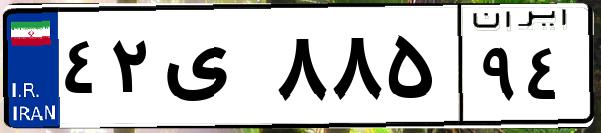2: (110, 28, 158, 98)
4: (57, 26, 110, 100), (525, 38, 570, 115)
5: (385, 28, 445, 110)
8: (270, 28, 330, 110), (330, 28, 385, 110)
9: (475, 38, 525, 113)
ی: (158, 20, 270, 120)
